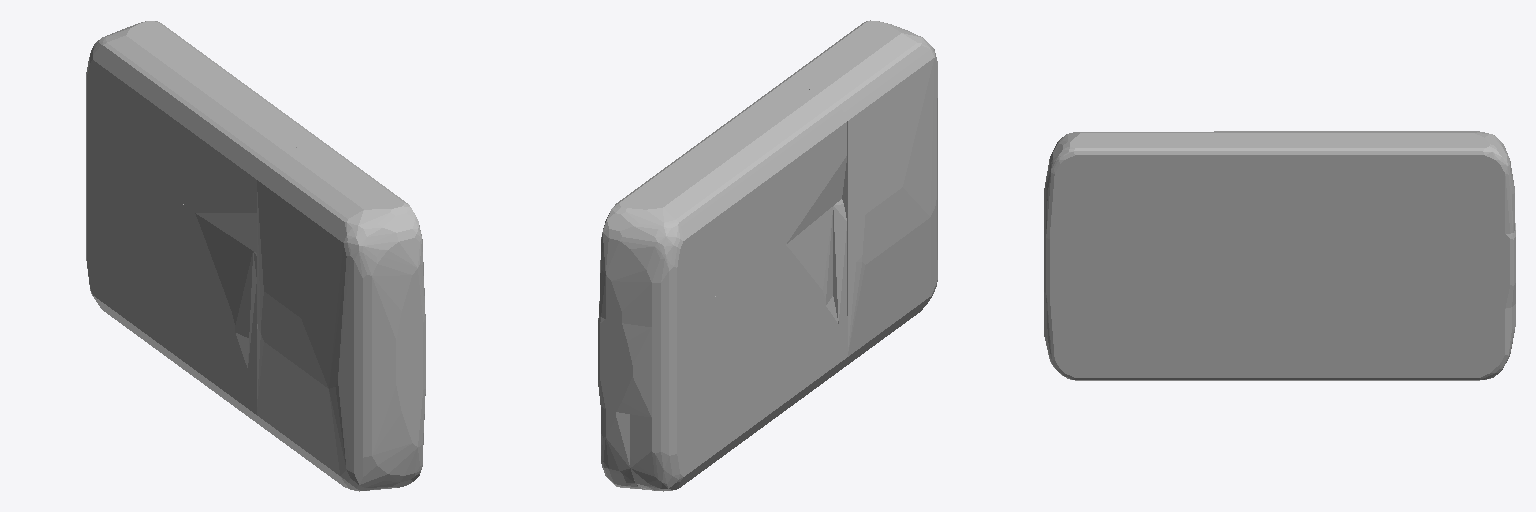
The robot description file, URDF, robot "root":
<robot name="root">
  <link name="link_coacd_convex_piece_0">
    <inertial>
      <origin xyz="0 0 0" rpy="0 0 0"/>
      <inertia ixx="5.69E-02" ixy="7.02E-04" ixz="-7.53E-06" iyy="1.06E-02" iyz="-2.63E-05" izz="4.77E-02"/>
    </inertial>
    <visual>
      <origin xyz="0 0 0" rpy="0 0 0"/>
      <geometry>
        <mesh filename="coacd_convex_piece_0.obj" scale="1.0000E+00 1.0000E+00 1.0000E+00"/>
      </geometry>
      <material name="">
        <color rgba="7.50E-01 7.50E-01 7.50E-01 1"/>
      </material>
    </visual>
    <collision>
      <origin xyz="0 0 0" rpy="0 0 0"/>
      <geometry>
        <mesh filename="coacd_convex_piece_0.obj" scale="1.0000E+00 1.0000E+00 1.0000E+00"/>
      </geometry>
    </collision>
  </link>
  <link name="link_coacd_convex_piece_1">
    <inertial>
      <origin xyz="0 0 0" rpy="0 0 0"/>
      <inertia ixx="2.55E-02" ixy="-3.65E-04" ixz="-3.62E-04" iyy="9.11E-03" iyz="-7.88E-03" izz="1.72E-02"/>
    </inertial>
    <visual>
      <origin xyz="0 0 0" rpy="0 0 0"/>
      <geometry>
        <mesh filename="coacd_convex_piece_1.obj" scale="1.0000E+00 1.0000E+00 1.0000E+00"/>
      </geometry>
      <material name="">
        <color rgba="7.50E-01 7.50E-01 7.50E-01 1"/>
      </material>
    </visual>
    <collision>
      <origin xyz="0 0 0" rpy="0 0 0"/>
      <geometry>
        <mesh filename="coacd_convex_piece_1.obj" scale="1.0000E+00 1.0000E+00 1.0000E+00"/>
      </geometry>
    </collision>
  </link>
  <joint name="link_coacd_convex_piece_1_joint" type="fixed">
    <origin xyz="0 0 0" rpy="0 0 0"/>
    <parent link="link_coacd_convex_piece_0"/>
    <child link="link_coacd_convex_piece_1"/>
  </joint>
  <link name="link_coacd_convex_piece_2">
    <inertial>
      <origin xyz="0 0 0" rpy="0 0 0"/>
      <inertia ixx="8.28E-04" ixy="2.04E-05" ixz="1.68E-05" iyy="4.93E-04" iyz="-2.88E-04" izz="4.12E-04"/>
    </inertial>
    <visual>
      <origin xyz="0 0 0" rpy="0 0 0"/>
      <geometry>
        <mesh filename="coacd_convex_piece_2.obj" scale="1.0000E+00 1.0000E+00 1.0000E+00"/>
      </geometry>
      <material name="">
        <color rgba="7.50E-01 7.50E-01 7.50E-01 1"/>
      </material>
    </visual>
    <collision>
      <origin xyz="0 0 0" rpy="0 0 0"/>
      <geometry>
        <mesh filename="coacd_convex_piece_2.obj" scale="1.0000E+00 1.0000E+00 1.0000E+00"/>
      </geometry>
    </collision>
  </link>
  <joint name="link_coacd_convex_piece_2_joint" type="fixed">
    <origin xyz="0 0 0" rpy="0 0 0"/>
    <parent link="link_coacd_convex_piece_1"/>
    <child link="link_coacd_convex_piece_2"/>
  </joint>
  <link name="link_coacd_convex_piece_3">
    <inertial>
      <origin xyz="0 0 0" rpy="0 0 0"/>
      <inertia ixx="1.66E-02" ixy="-3.06E-04" ixz="1.48E-05" iyy="1.02E-03" iyz="5.04E-04" izz="1.63E-02"/>
    </inertial>
    <visual>
      <origin xyz="0 0 0" rpy="0 0 0"/>
      <geometry>
        <mesh filename="coacd_convex_piece_3.obj" scale="1.0000E+00 1.0000E+00 1.0000E+00"/>
      </geometry>
      <material name="">
        <color rgba="7.50E-01 7.50E-01 7.50E-01 1"/>
      </material>
    </visual>
    <collision>
      <origin xyz="0 0 0" rpy="0 0 0"/>
      <geometry>
        <mesh filename="coacd_convex_piece_3.obj" scale="1.0000E+00 1.0000E+00 1.0000E+00"/>
      </geometry>
    </collision>
  </link>
  <joint name="link_coacd_convex_piece_3_joint" type="fixed">
    <origin xyz="0 0 0" rpy="0 0 0"/>
    <parent link="link_coacd_convex_piece_2"/>
    <child link="link_coacd_convex_piece_3"/>
  </joint>
  <link name="link_coacd_convex_piece_4">
    <inertial>
      <origin xyz="0 0 0" rpy="0 0 0"/>
      <inertia ixx="1.09E-02" ixy="-8.80E-04" ixz="8.56E-04" iyy="4.14E-03" iyz="3.70E-03" izz="7.25E-03"/>
    </inertial>
    <visual>
      <origin xyz="0 0 0" rpy="0 0 0"/>
      <geometry>
        <mesh filename="coacd_convex_piece_4.obj" scale="1.0000E+00 1.0000E+00 1.0000E+00"/>
      </geometry>
      <material name="">
        <color rgba="7.50E-01 7.50E-01 7.50E-01 1"/>
      </material>
    </visual>
    <collision>
      <origin xyz="0 0 0" rpy="0 0 0"/>
      <geometry>
        <mesh filename="coacd_convex_piece_4.obj" scale="1.0000E+00 1.0000E+00 1.0000E+00"/>
      </geometry>
    </collision>
  </link>
  <joint name="link_coacd_convex_piece_4_joint" type="fixed">
    <origin xyz="0 0 0" rpy="0 0 0"/>
    <parent link="link_coacd_convex_piece_3"/>
    <child link="link_coacd_convex_piece_4"/>
  </joint>
  <link name="link_coacd_convex_piece_5">
    <inertial>
      <origin xyz="0 0 0" rpy="0 0 0"/>
      <inertia ixx="1.14E-02" ixy="5.47E-04" ixz="-5.32E-04" iyy="4.20E-03" iyz="3.87E-03" izz="7.47E-03"/>
    </inertial>
    <visual>
      <origin xyz="0 0 0" rpy="0 0 0"/>
      <geometry>
        <mesh filename="coacd_convex_piece_5.obj" scale="1.0000E+00 1.0000E+00 1.0000E+00"/>
      </geometry>
      <material name="">
        <color rgba="7.50E-01 7.50E-01 7.50E-01 1"/>
      </material>
    </visual>
    <collision>
      <origin xyz="0 0 0" rpy="0 0 0"/>
      <geometry>
        <mesh filename="coacd_convex_piece_5.obj" scale="1.0000E+00 1.0000E+00 1.0000E+00"/>
      </geometry>
    </collision>
  </link>
  <joint name="link_coacd_convex_piece_5_joint" type="fixed">
    <origin xyz="0 0 0" rpy="0 0 0"/>
    <parent link="link_coacd_convex_piece_4"/>
    <child link="link_coacd_convex_piece_5"/>
  </joint>
</robot>

--- Render facts (derived) ---
The picture shows the robot from 3 angles, left to right: view 1: azimuth 30°, elevation 25°; view 2: azimuth 150°, elevation 25°; view 3: azimuth 270°, elevation 25°; orthographic projection.
Robot: root — 6 links, 5 joints (5 fixed); root link link_coacd_convex_piece_0; default pose: all joints at 0.
Visible links, largest first — view 1: link_coacd_convex_piece_0, link_coacd_convex_piece_1, link_coacd_convex_piece_3, link_coacd_convex_piece_5, link_coacd_convex_piece_2; view 2: link_coacd_convex_piece_1, link_coacd_convex_piece_0, link_coacd_convex_piece_3, link_coacd_convex_piece_5, link_coacd_convex_piece_4, link_coacd_convex_piece_2; view 3: link_coacd_convex_piece_0, link_coacd_convex_piece_1, link_coacd_convex_piece_3, link_coacd_convex_piece_4, link_coacd_convex_piece_2.
Link boxes in pixels (x1=…): link_coacd_convex_piece_0: x1=257, y1=142, x2=425, y2=491; link_coacd_convex_piece_1: x1=86, y1=21, x2=322, y2=252; link_coacd_convex_piece_3: x1=86, y1=132, x2=252, y2=337; link_coacd_convex_piece_5: x1=86, y1=222, x2=253, y2=420; link_coacd_convex_piece_2: x1=248, y1=251, x2=262, y2=426; link_coacd_convex_piece_1: x1=599, y1=83, x2=846, y2=327; link_coacd_convex_piece_0: x1=780, y1=20, x2=937, y2=369; link_coacd_convex_piece_3: x1=598, y1=207, x2=832, y2=417; link_coacd_convex_piece_5: x1=630, y1=296, x2=838, y2=491; link_coacd_convex_piece_4: x1=601, y1=407, x2=644, y2=489; link_coacd_convex_piece_2: x1=832, y1=199, x2=847, y2=375; link_coacd_convex_piece_0: x1=1044, y1=132, x2=1213, y2=380; link_coacd_convex_piece_1: x1=1214, y1=131, x2=1514, y2=233; link_coacd_convex_piece_3: x1=1228, y1=223, x2=1515, y2=308; link_coacd_convex_piece_4: x1=1228, y1=304, x2=1515, y2=380; link_coacd_convex_piece_2: x1=1214, y1=234, x2=1227, y2=380.
Bounding box of the posed robot: 0.275 × 1.81 × 0.9821 m (x, y, z).
Meshes: 6 distinct files referenced, 6 mesh visuals loaded (6 OBJ).
